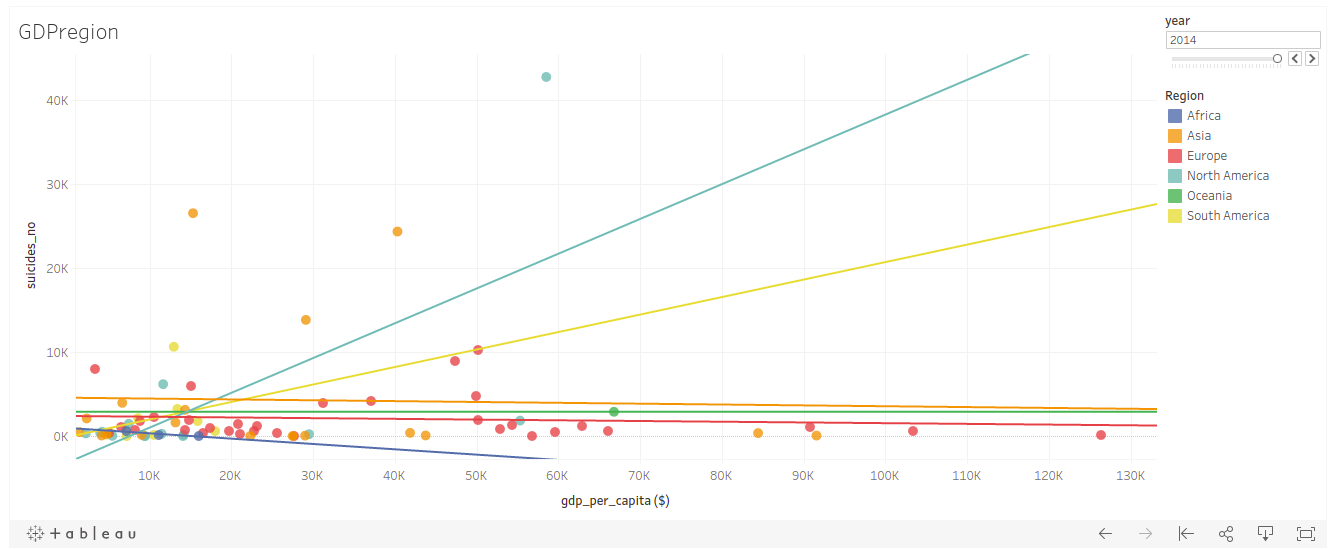

Layout of this report page (visuals, bound fields, positions):
{"tool":"tableau","page":{"name":"Dashboard 4","canvas":[1000,800],"ordinal":2},"visuals":[{"type":"worksheet","title":"GDPregion","mark":"Shape","rows":["suicides_no"],"cols":["gdp_per_capita ($)"],"box":[8,8,824,784]},{"type":"filter","title":"GDPregion","param":"[federated.1z0e0fb00v84b118s3c7o0sa5ude].[none:year:ok]","box":[832,8,160,75]},{"type":"legend","title":"GDPregion","param":"[federated.1z0e0fb00v84b118s3c7o0sa5ude].[none:Region:nk]","box":[832,83,160,146]}]}

Visuals, with their boxes on the page's 1000x800 design canvas (x1, y1, x2, y2). These are canvas units, not pixel positions in the 1336x549 screenshot, which may show the page scaled, cropped or inside an application window:
"GDPregion" worksheet (Shape marks): box(8, 8, 832, 792)
"GDPregion" filter: box(832, 8, 992, 83)
"GDPregion" legend: box(832, 83, 992, 229)
